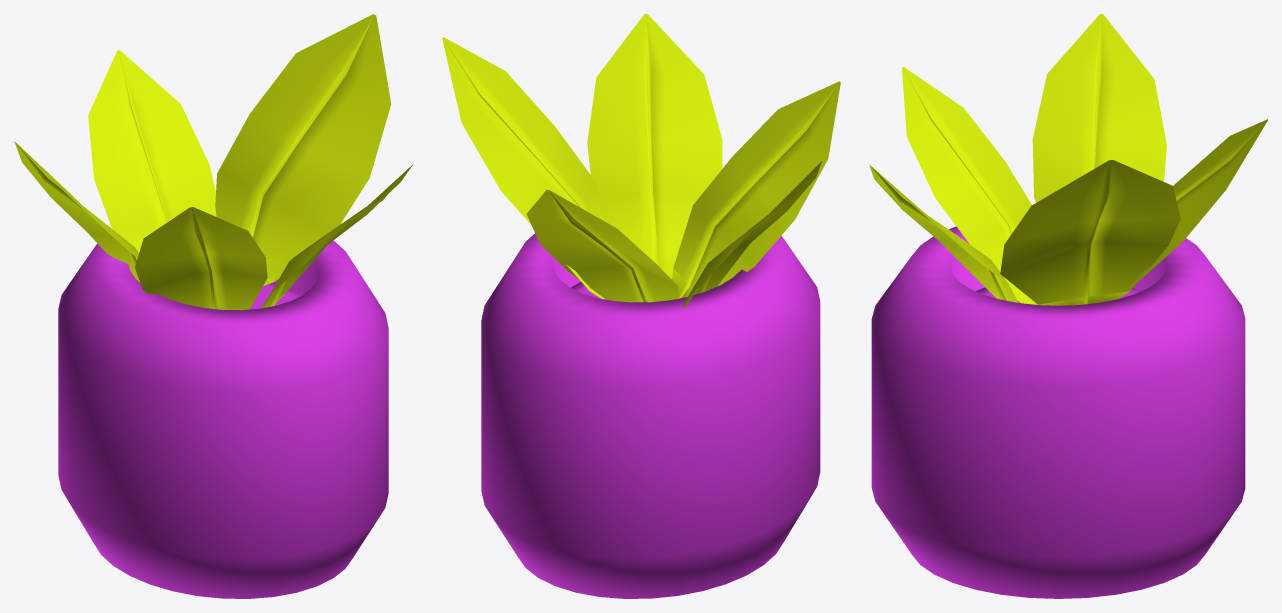
Rendered from plante.glb.
The picture shows the model from 3 angles, left to right: view 1: azimuth 30°, elevation 25°; view 2: azimuth 150°, elevation 25°; view 3: azimuth 270°, elevation 25°; orthographic projection. The views are drawn at different scales.
Visible parts, largest first — view 1: Circle.003; view 2: Circle.003; view 3: Circle.003.
Boxes of the visible parts, left/top/right/bottom form: Circle.003: left=14, top=14, right=413, bottom=598; Circle.003: left=442, top=14, right=840, bottom=598; Circle.003: left=869, top=14, right=1267, bottom=598.
Bounding box in the file's own units: 1.4 × 1.7 × 1.3.
